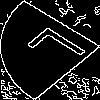L: (25, 25, 100, 77)
